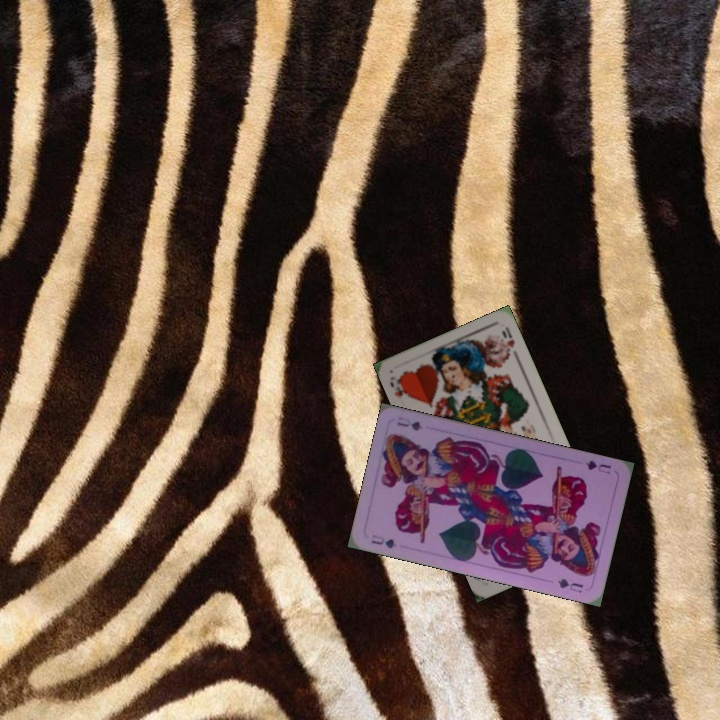GU: (581, 456, 614, 477), (367, 530, 399, 551)
HO: (386, 372, 412, 400)
